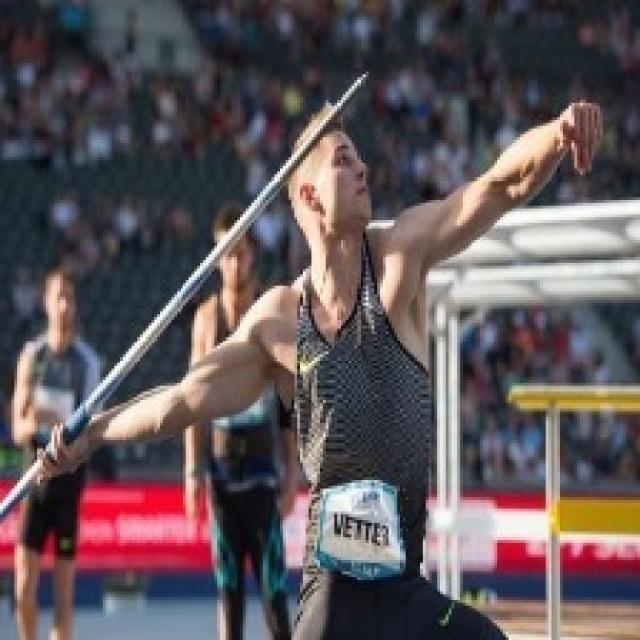javelin: (3, 53, 439, 560)
